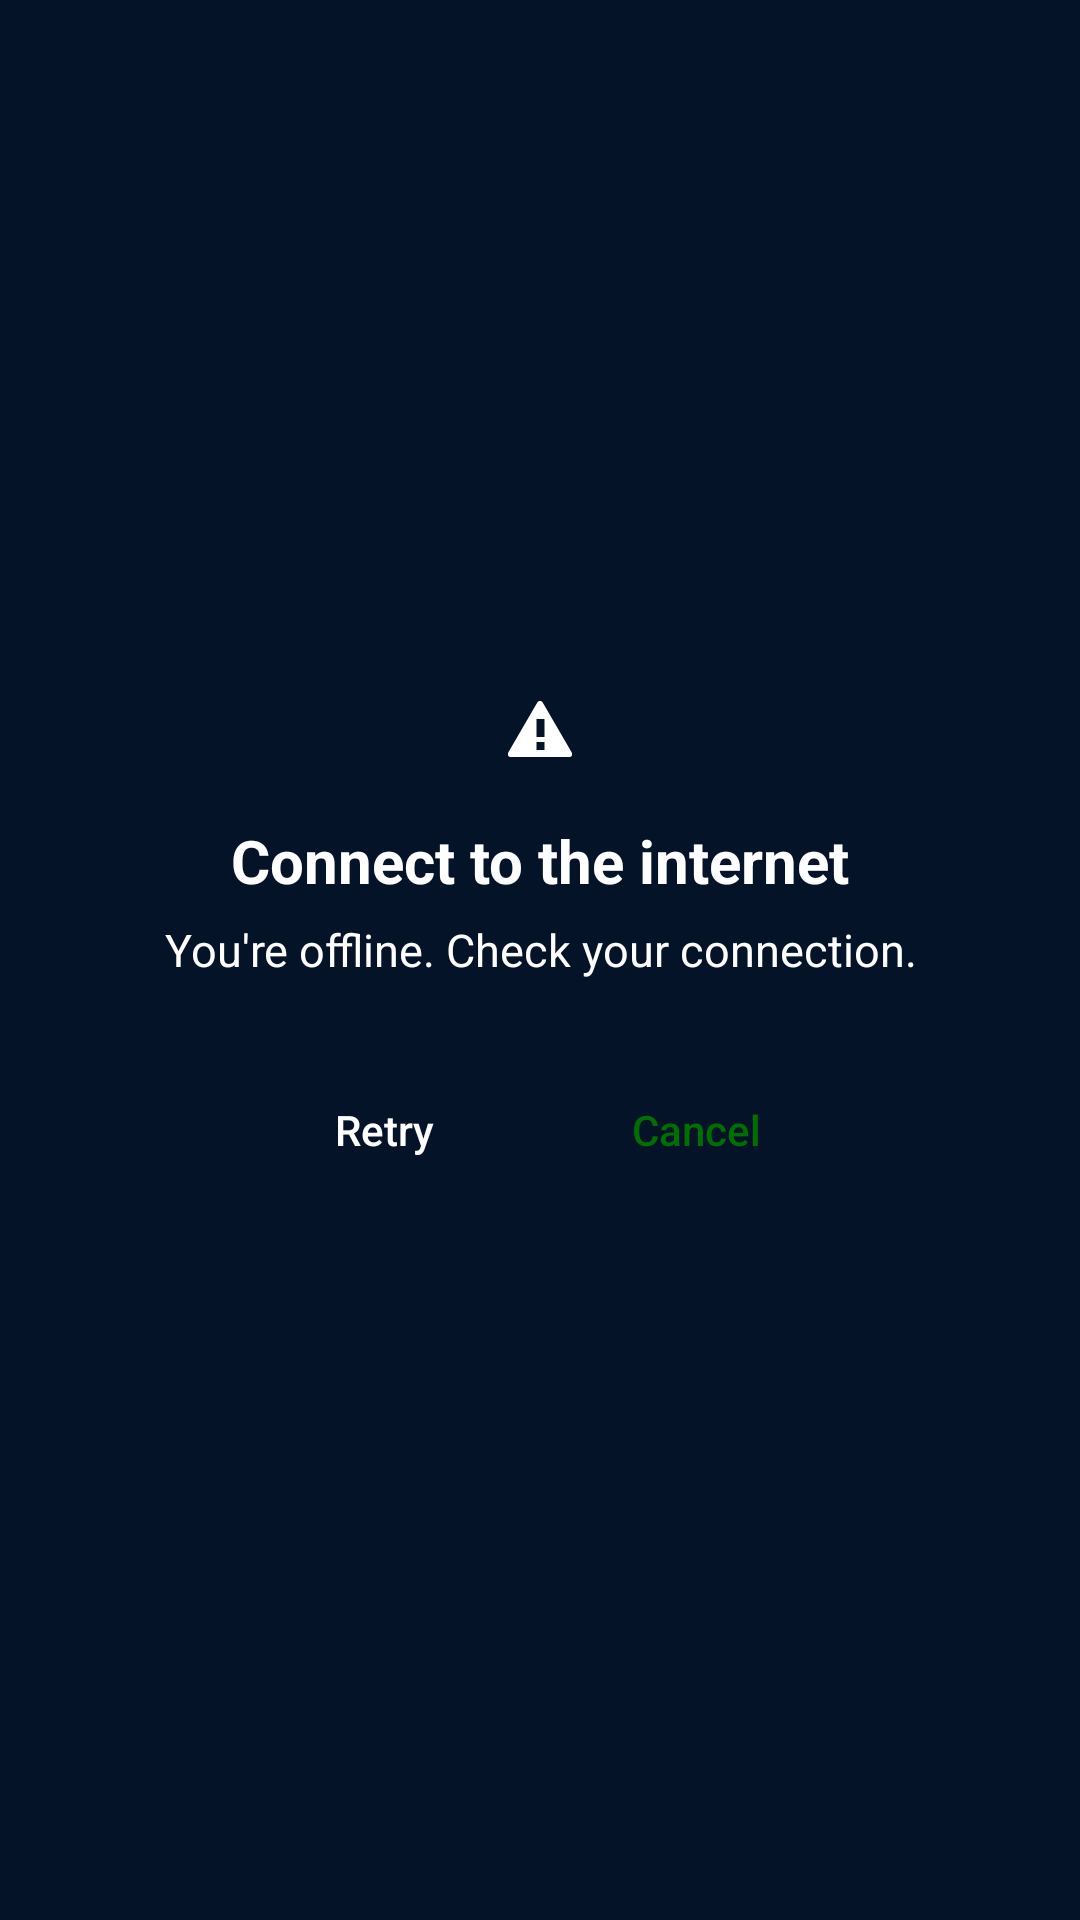

Where to tap for icons on this 1080x1920 app screen, as [x,y]:
error: [540,729]
